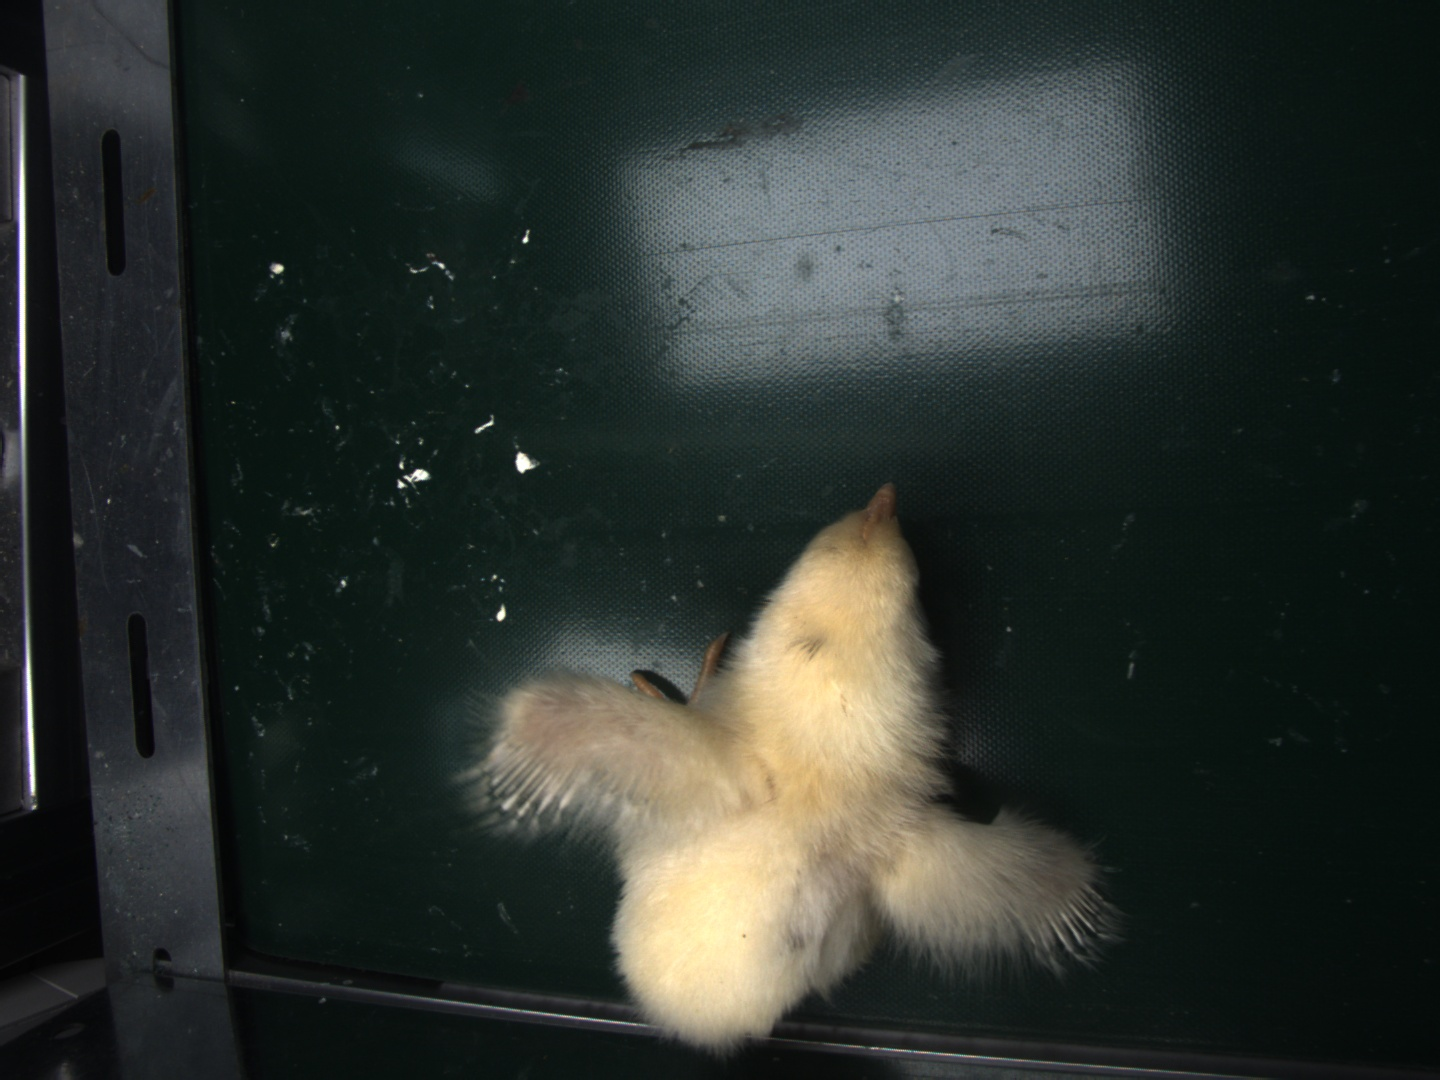male: (480, 735, 579, 824), (1030, 883, 1106, 954)
